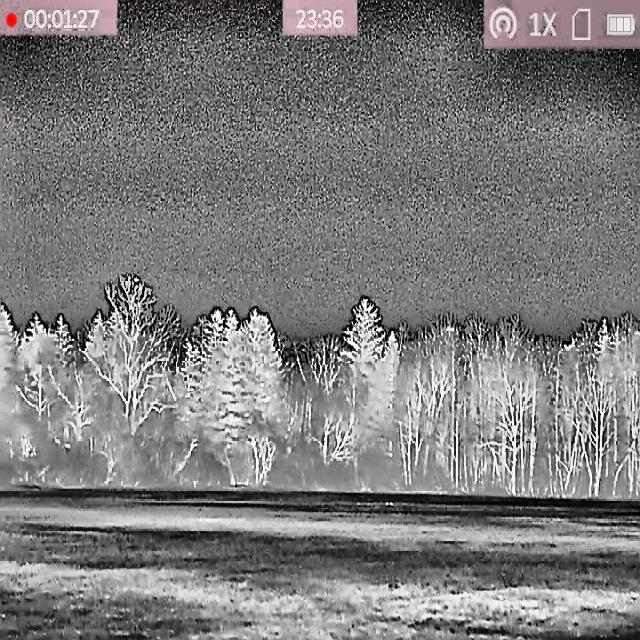drone: (133, 276, 141, 284)
